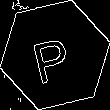P_N: (32, 26, 78, 84)
